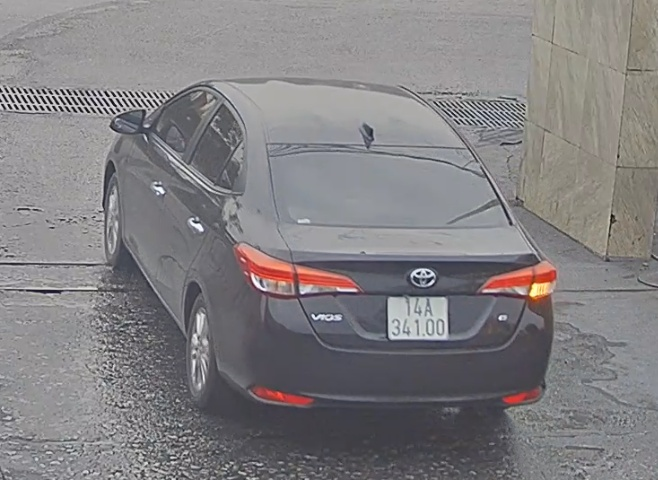vehicle plate: (379, 289, 447, 344)
